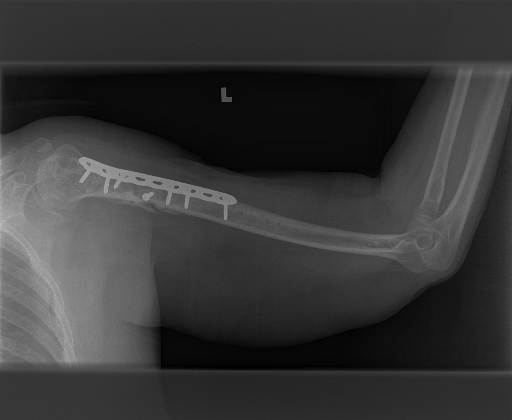fracture: (399, 211, 443, 260)
implant: (76, 151, 239, 231)
